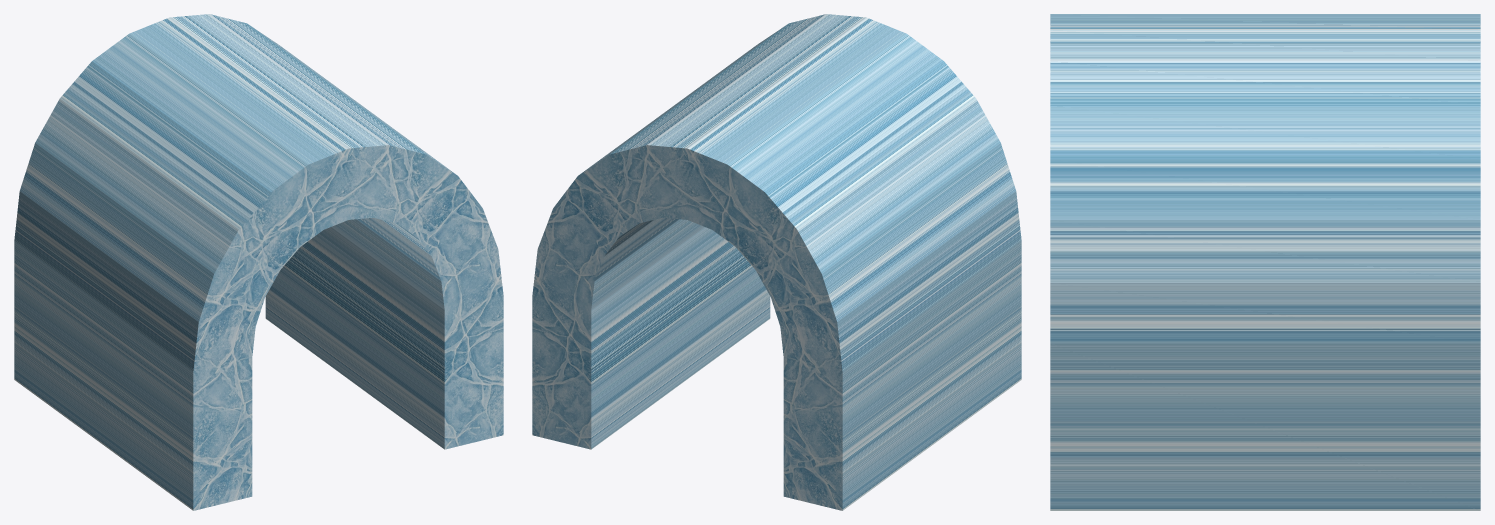
The model's file is ice_arch.obj.
The picture shows the model from 3 angles, left to right: view 1: azimuth 30°, elevation 25°; view 2: azimuth 150°, elevation 25°; view 3: azimuth 270°, elevation 25°; orthographic projection. The views are drawn at different scales.
Visible parts, largest first — view 1: ice_arch; view 2: ice_arch; view 3: ice_arch.
Boxes of the visible parts, left/top/right/bottom form: ice_arch: left=14, top=14, right=503, bottom=510; ice_arch: left=532, top=14, right=1021, bottom=510; ice_arch: left=1050, top=14, right=1480, bottom=510.
Bounding box in the file's own units: 1 × 1 × 1.
Materials: 1 (1 with a texture image).
